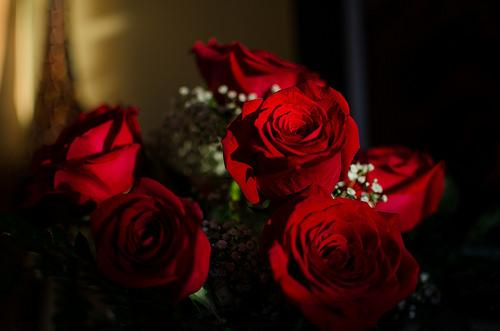rose: (266, 195, 424, 331), (220, 72, 361, 208), (87, 175, 214, 322), (40, 96, 142, 202), (351, 144, 450, 231)
